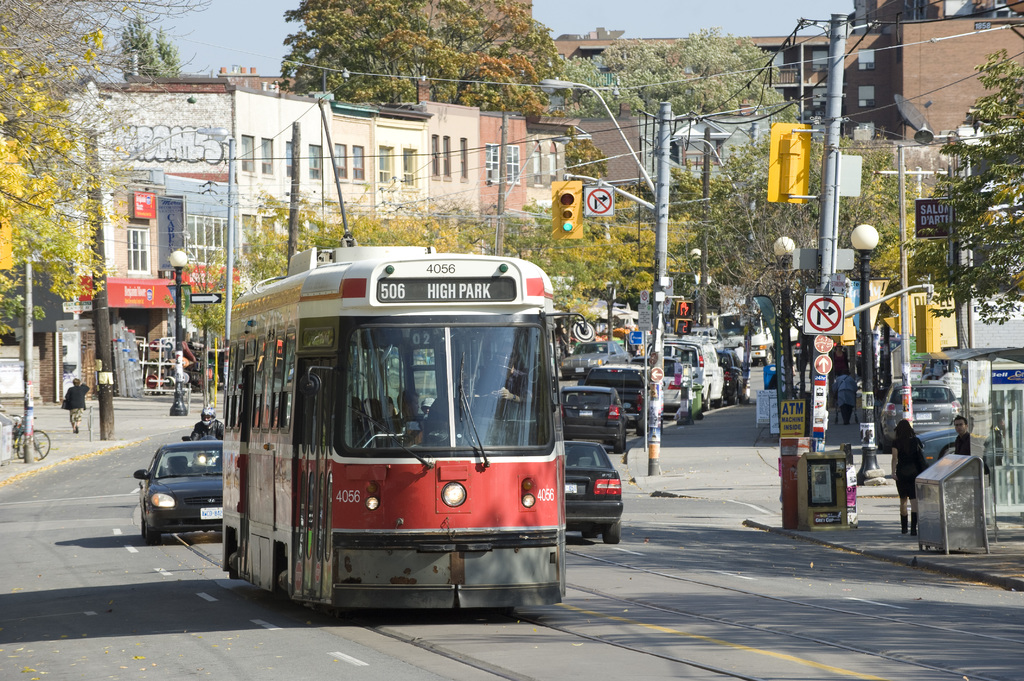Tree: (0, 0, 1023, 332)
